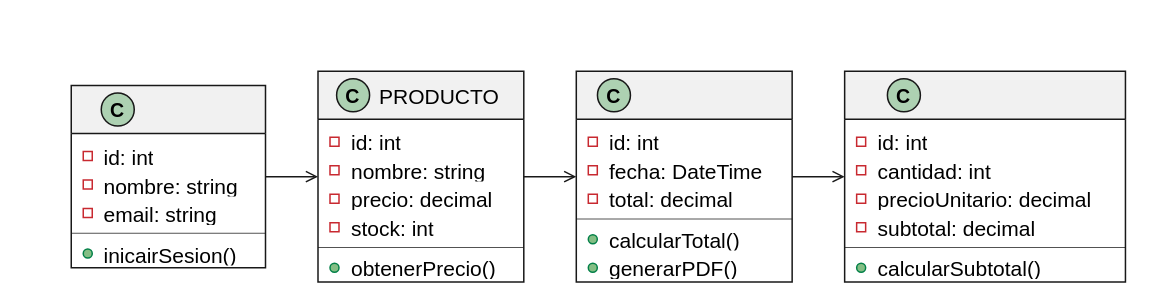
Some shapes in this 1152 by 308 pixel diagram are drawn without their labels. The box of each missing label's shape, as (x1, y1, x2, y2) in pixels:
CLIENTE: (70, 84, 266, 268)
COTIZACIÓN: (575, 70, 792, 282)
ITEMCARRITO: (843, 70, 1125, 282)
